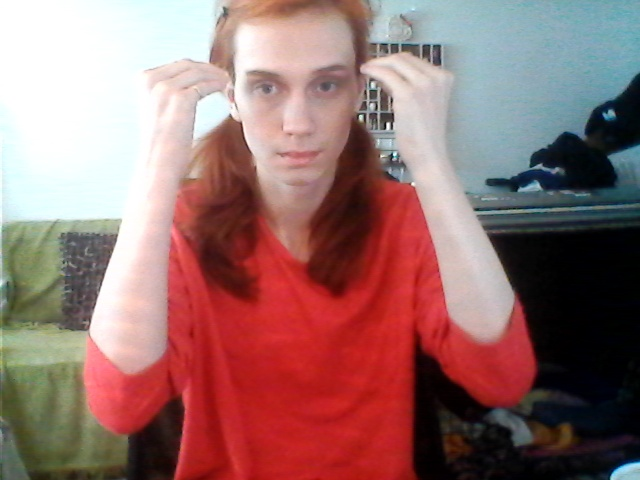ucit: (145, 46, 470, 100)
